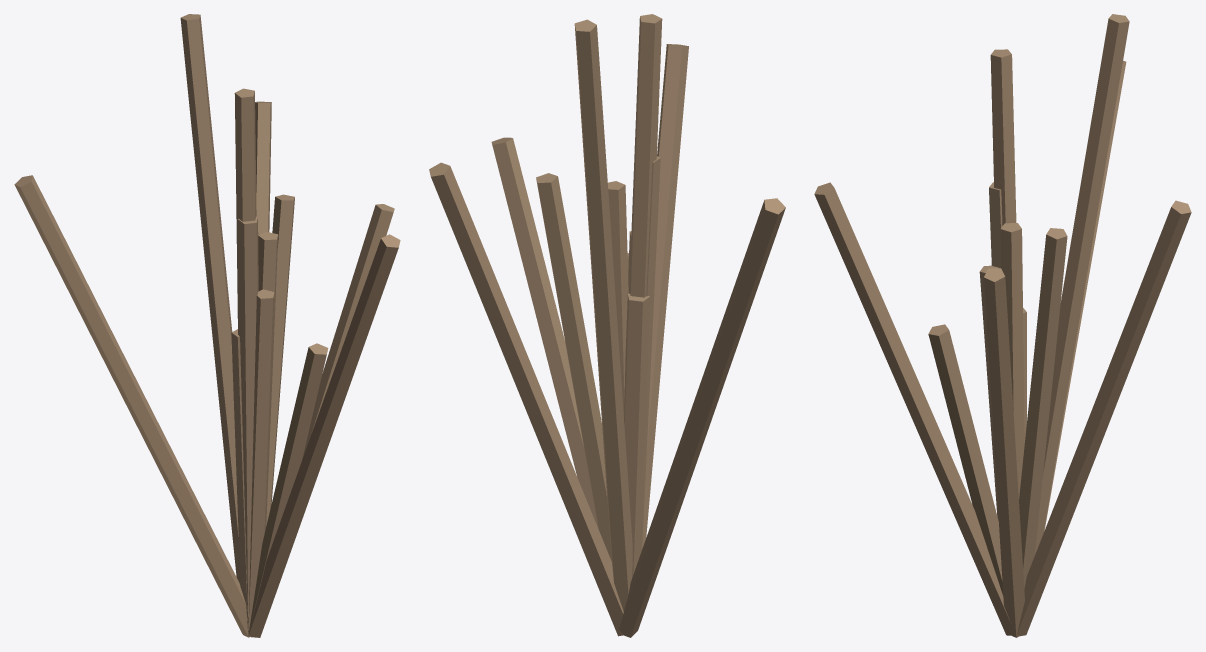
File: veg_scrub_dry_02.glb
3 views of the same model, side by side, from view 1: azimuth 30°, elevation 25°; view 2: azimuth 150°, elevation 25°; view 3: azimuth 270°, elevation 25° (orthographic). The views are drawn at different scales.
Parts seen in each view (by area): view 1: branch_2, branch_3, branch_6, branch_7, branch_0, branch_9, branch_1, branch_8, branch_4, branch_11, branch_10, branch_5; view 2: branch_3, branch_10, branch_2, branch_1, branch_8, branch_6, branch_4, branch_11, branch_5, branch_7; view 3: branch_3, branch_6, branch_10, branch_8, branch_1, branch_9, branch_5, branch_4, branch_2, branch_7, branch_0.
Part boxes in pixels (x1,y1,x2,y2): branch_2: [14, 175, 250, 637]; branch_3: [180, 14, 240, 584]; branch_6: [248, 234, 400, 637]; branch_7: [238, 216, 258, 629]; branch_0: [248, 289, 274, 634]; branch_9: [248, 343, 328, 635]; branch_1: [266, 194, 294, 525]; branch_8: [302, 204, 394, 458]; branch_4: [234, 88, 256, 334]; branch_11: [231, 329, 248, 632]; branch_10: [255, 101, 271, 234]; branch_5: [258, 232, 278, 526]; branch_3: [574, 19, 632, 610]; branch_10: [429, 162, 623, 636]; branch_2: [619, 198, 785, 637]; branch_1: [536, 173, 611, 561]; branch_8: [491, 137, 598, 527]; branch_6: [642, 44, 688, 549]; branch_4: [629, 14, 662, 297]; branch_11: [624, 293, 649, 576]; branch_5: [608, 181, 628, 416]; branch_7: [641, 156, 660, 552]; branch_3: [1035, 14, 1129, 554]; branch_6: [814, 182, 1011, 635]; branch_10: [1015, 200, 1191, 636]; branch_8: [984, 268, 1024, 637]; branch_1: [1019, 228, 1067, 588]; branch_9: [928, 324, 1003, 595]; branch_5: [1000, 223, 1024, 498]; branch_4: [990, 49, 1016, 225]; branch_2: [1044, 60, 1126, 531]; branch_7: [989, 182, 1002, 268]; branch_0: [979, 265, 998, 520].
Bounding box in the file's own units: 0.738 × 1.29 × 0.7244.
